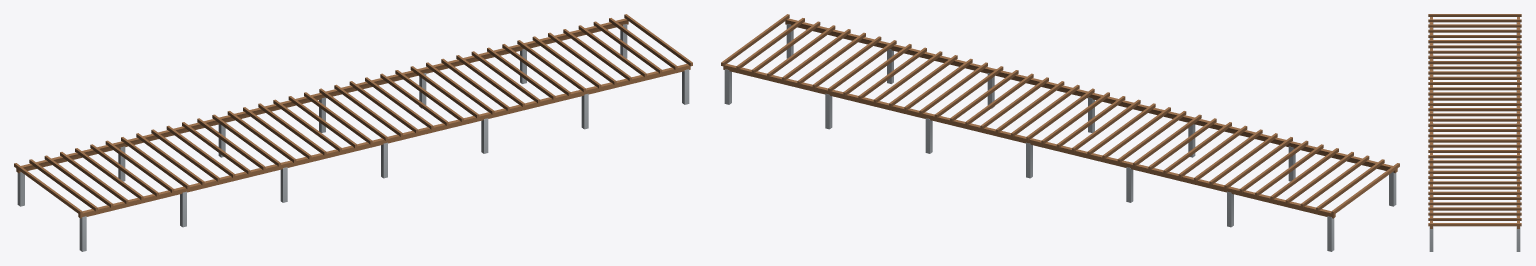
File: pergola.glb
3 renders of one model, left to right at view 1: azimuth 30°, elevation 25°; view 2: azimuth 150°, elevation 25°; view 3: azimuth 270°, elevation 25°, orthographic. The views are drawn at different scales.
Visible parts, largest first — view 1: pergola; view 2: pergola; view 3: pergola.
Boxes of the visible parts, bbox=[...] form: pergola: bbox=[14, 14, 692, 251]; pergola: bbox=[721, 14, 1399, 251]; pergola: bbox=[1428, 14, 1521, 251].
Bounding box in the file's own units: 48 × 3.1 × 9.
